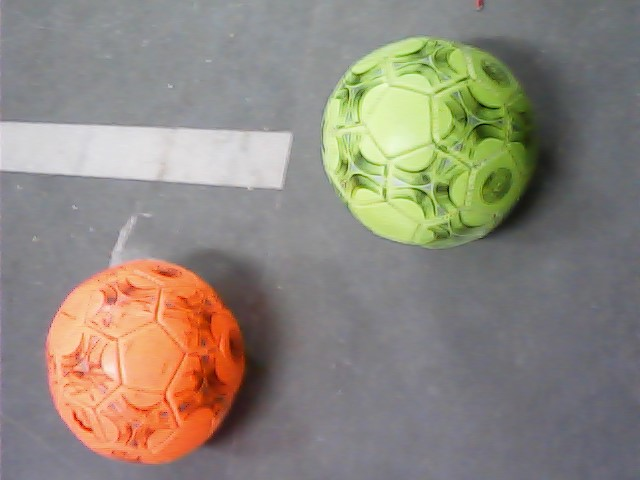Green_ball: (320, 24, 525, 261)
Orange_ball: (39, 249, 272, 463)
